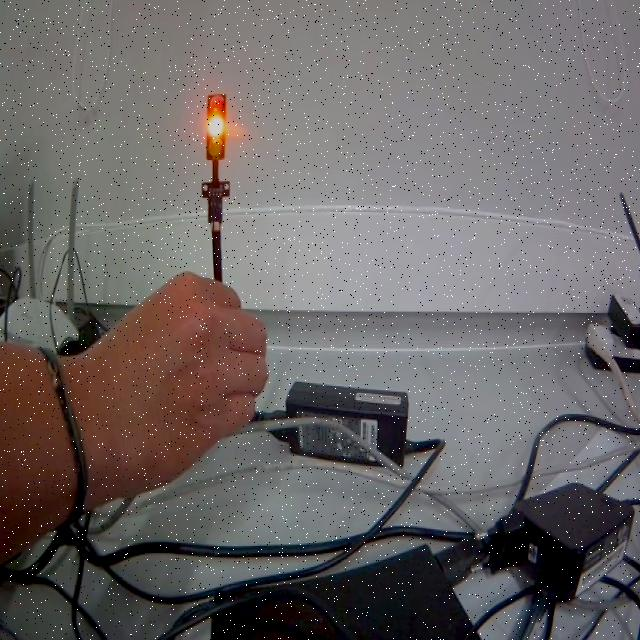Lampu Kuning: (204, 92, 227, 162)
